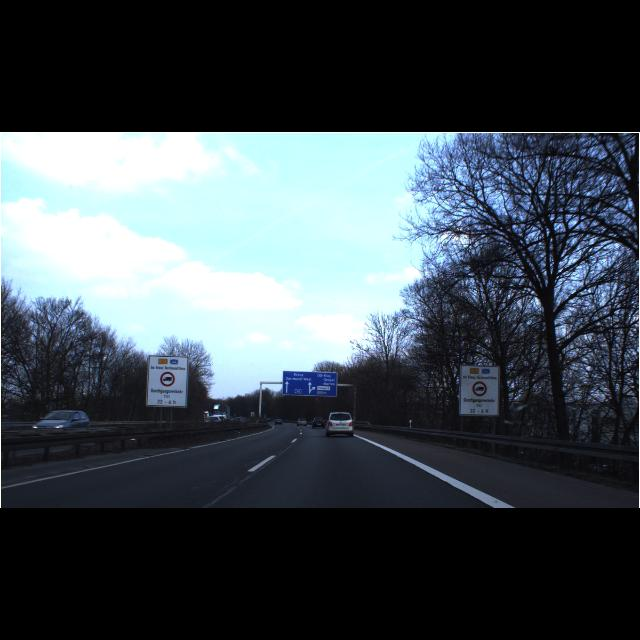prohibitory: (472, 381, 486, 397), (160, 372, 174, 386)
